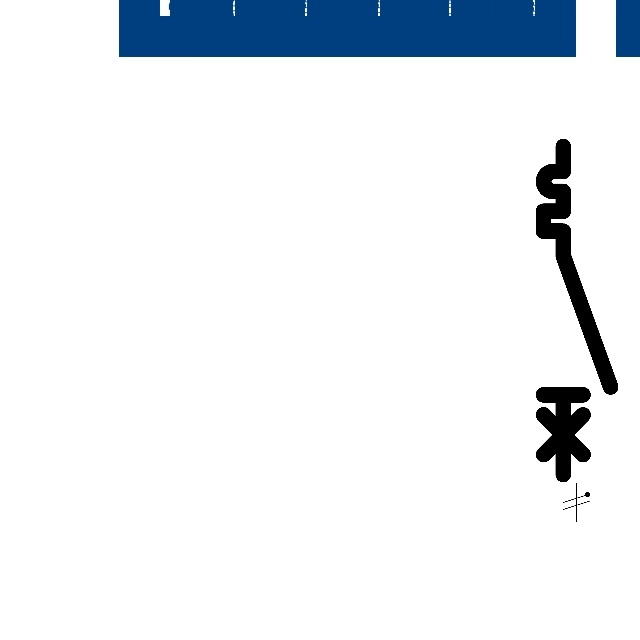interruptor_termomagnetico: (535, 138, 619, 483)
